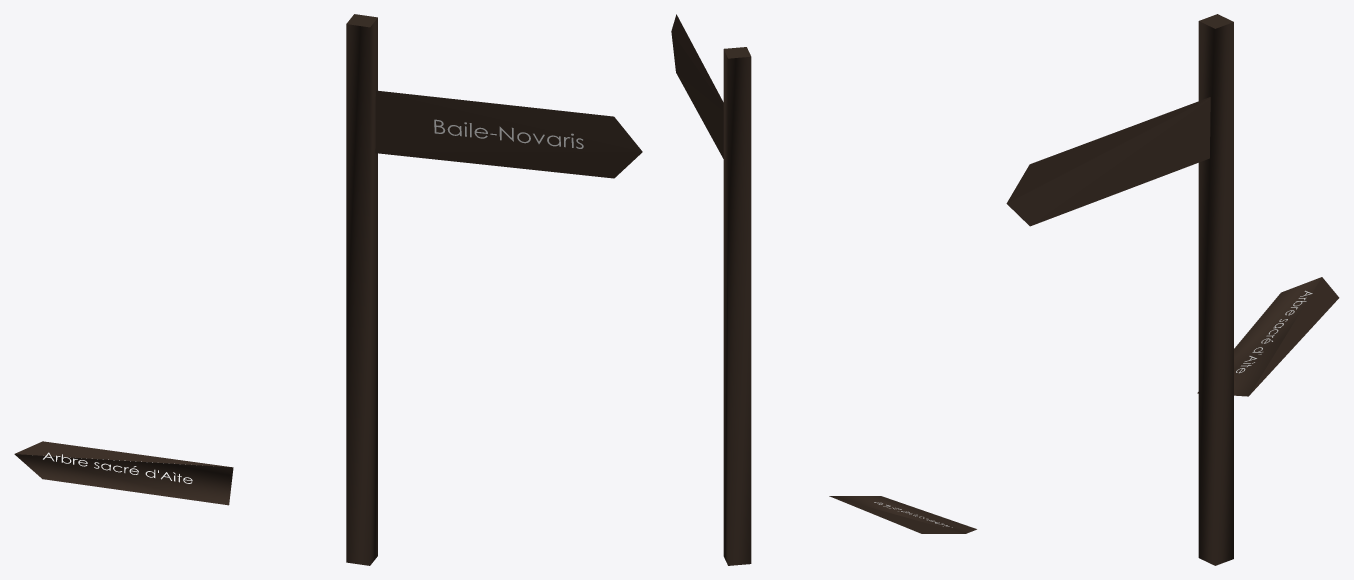
The model's file is Pointer_compressed.glb.
3 renders of one model, left to right at view 1: azimuth 30°, elevation 25°; view 2: azimuth 150°, elevation 25°; view 3: azimuth 270°, elevation 25°, orthographic. The views are drawn at different scales.
Visible parts, largest first — view 1: +Pointer; view 2: +Pointer; view 3: +Pointer.
Part boxes in pixels (x1,y1,x2,y2): +Pointer: (14,14,642,565); +Pointer: (671,14,976,565); +Pointer: (1006,14,1339,565).
Size of the model in its own units: 0.8879 by 0.971 by 0.5457.
